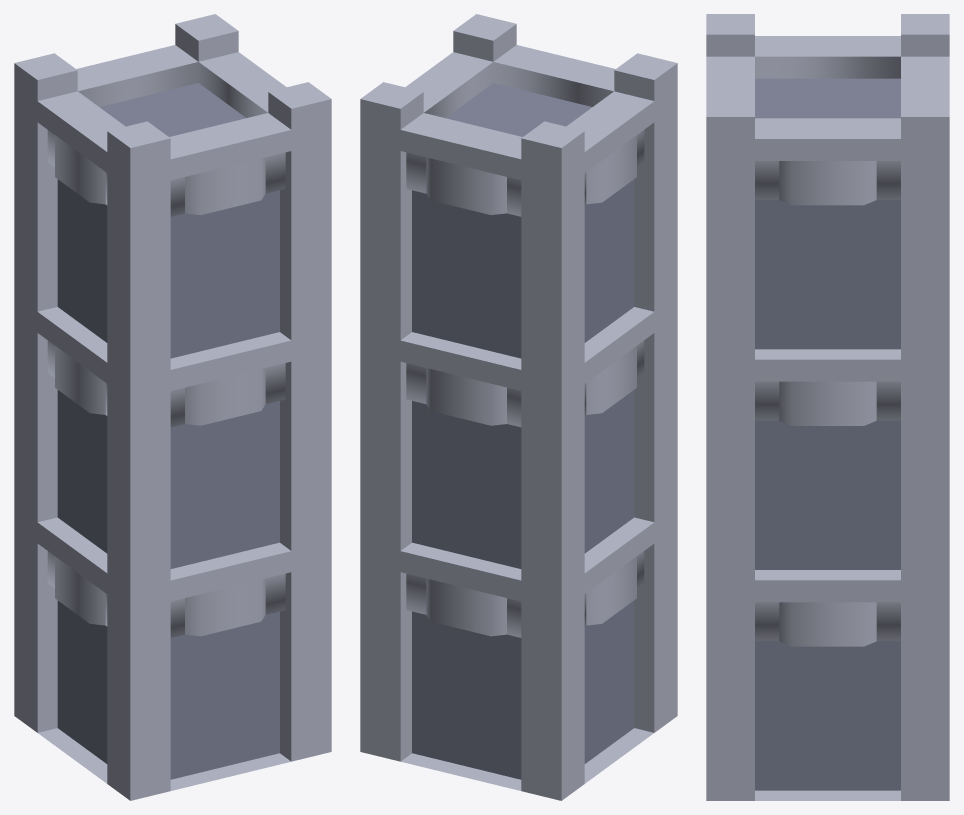
The model's file is wall_tall2.glb.
The picture shows the model from 3 angles, left to right: view 1: azimuth 30°, elevation 25°; view 2: azimuth 150°, elevation 25°; view 3: azimuth 270°, elevation 25°; orthographic projection. The views are drawn at different scales.
Parts seen in each view (by area): view 1: wall.001; view 2: wall.001; view 3: wall.001.
Boxes of the visible parts, bbox=[...] form: wall.001: bbox=[14, 14, 331, 800]; wall.001: bbox=[360, 14, 677, 800]; wall.001: bbox=[706, 14, 949, 800].
Bounding box in the file's own units: 1 × 3.1 × 1.
